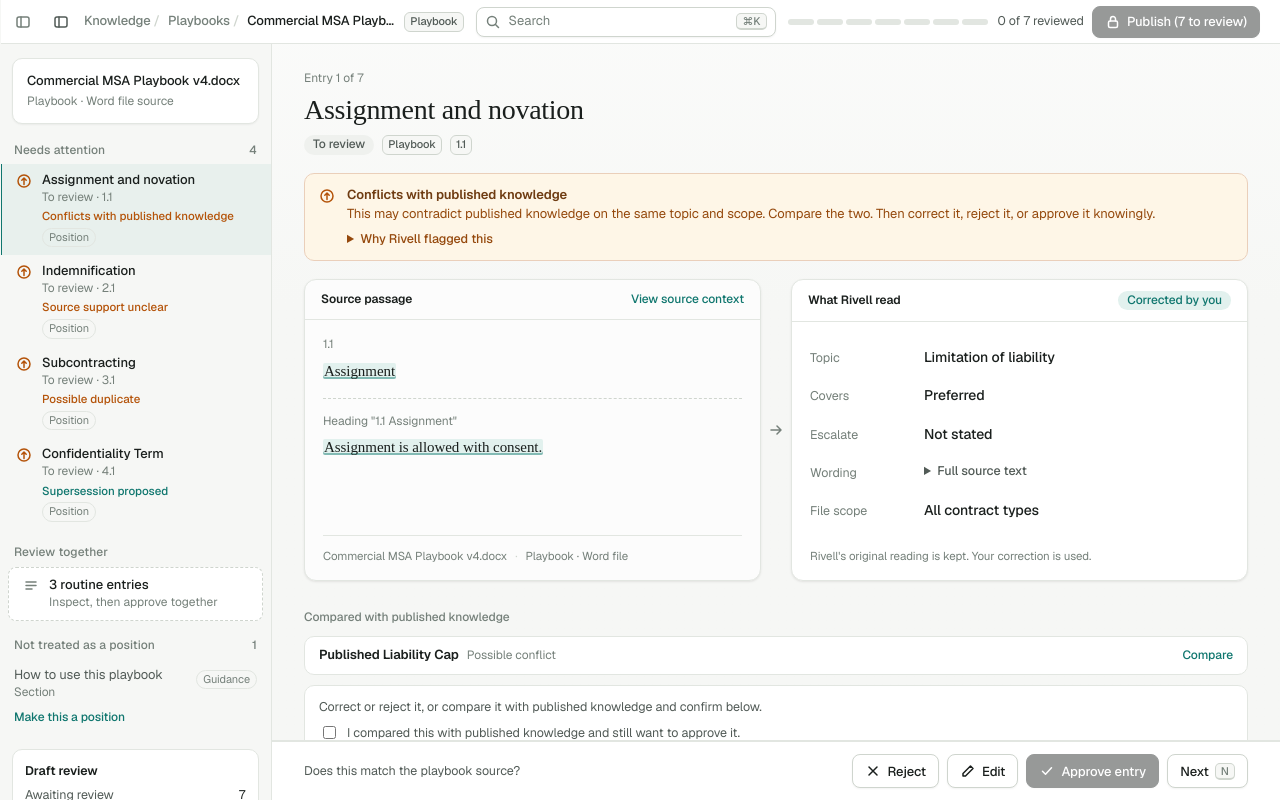
Test: compilation workspace › names the source sheet by the title a reviewer sees
Expected: the heading "Assignment and novation" is shown, [304,94,584,125]
Click the button "View source context" at x=688, y=300, box [631,291,744,308]
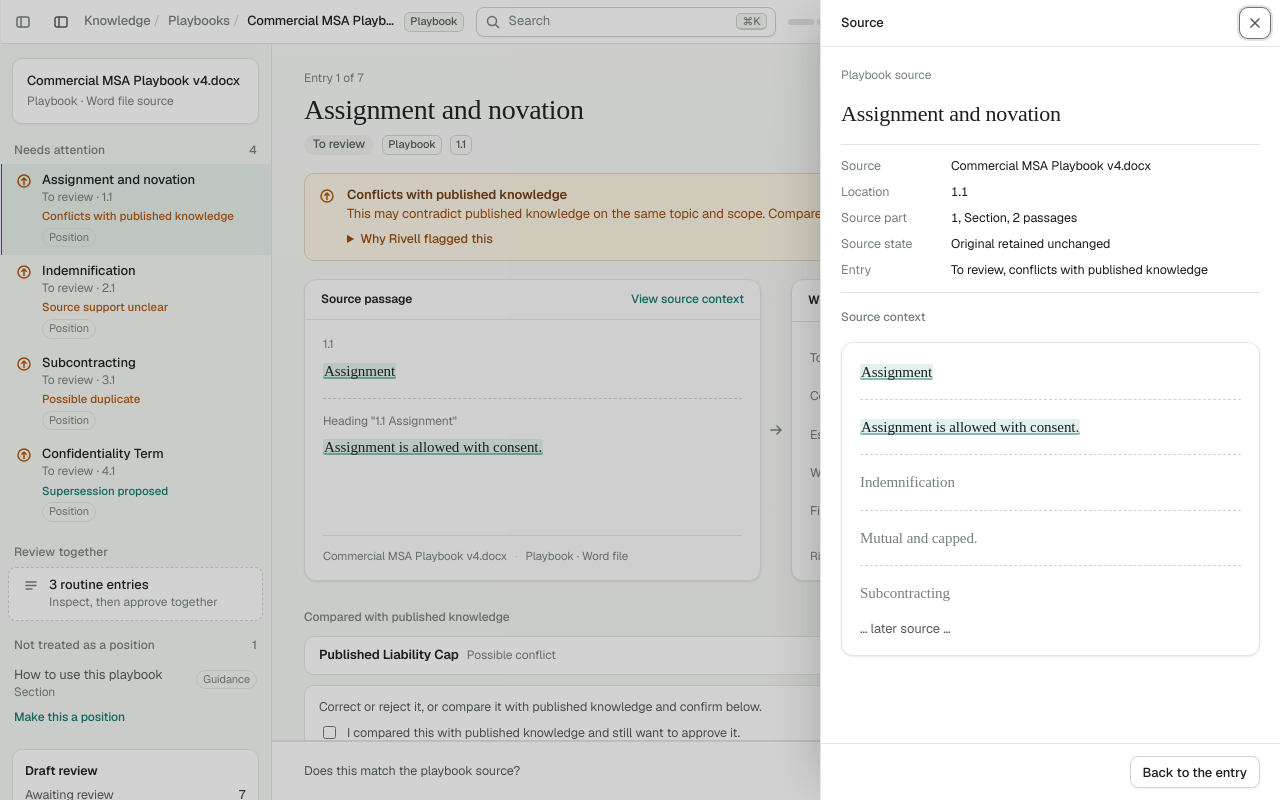
Expected: the dialog "Assignment and novation" is shown, [820,0,1279,799]
